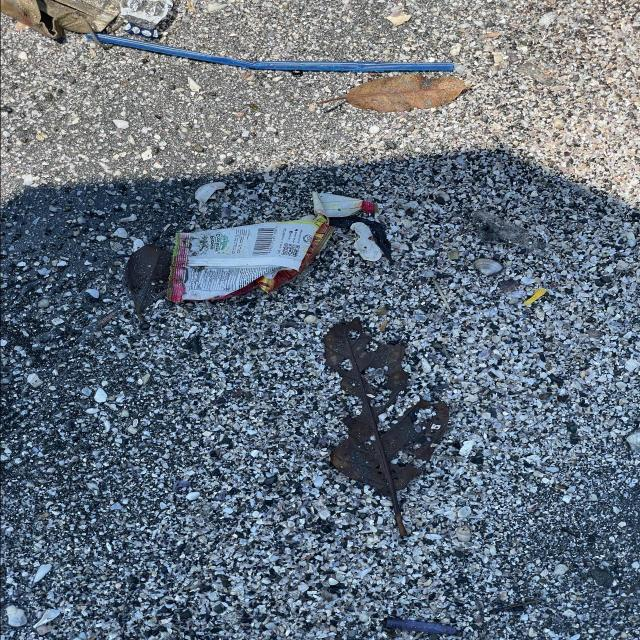plastic_waste: (167, 194, 377, 304), (86, 32, 455, 75)
